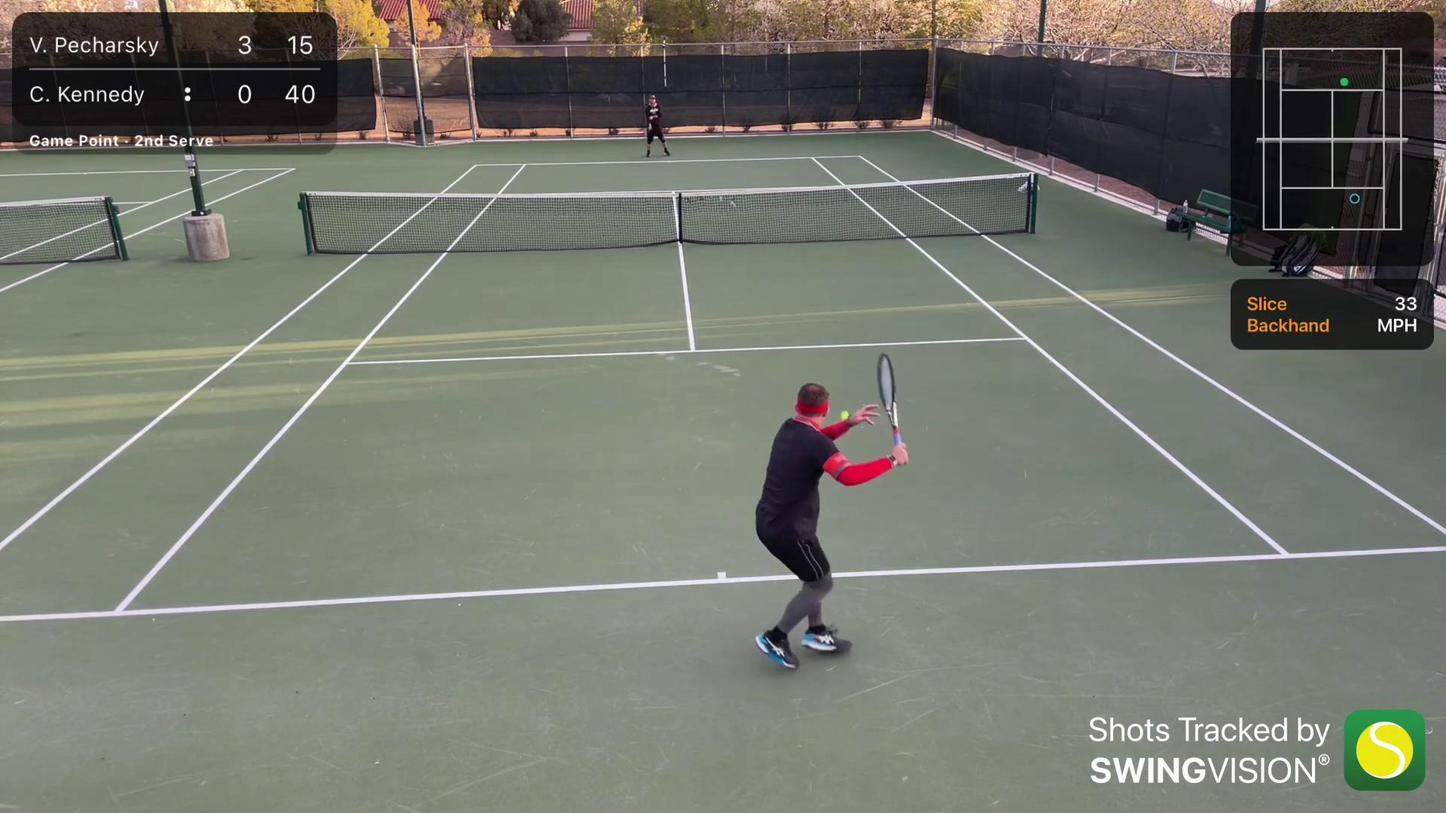ball: (837, 410, 850, 420)
